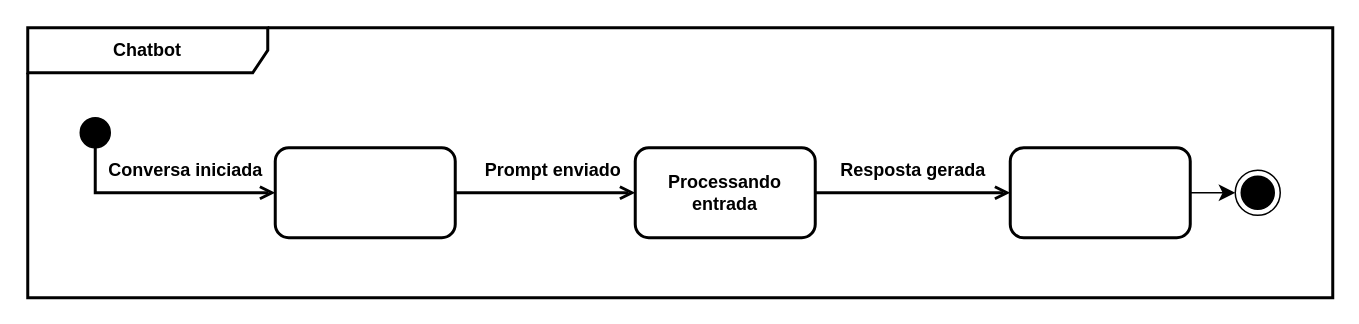
Image size: 1359x324. Some labels were removed from this diagram. Each missing label, with the centre of its shape:
"Aguardando entrada" goes at (x=364, y=192).
"Gerando saída" goes at (x=1099, y=192).
